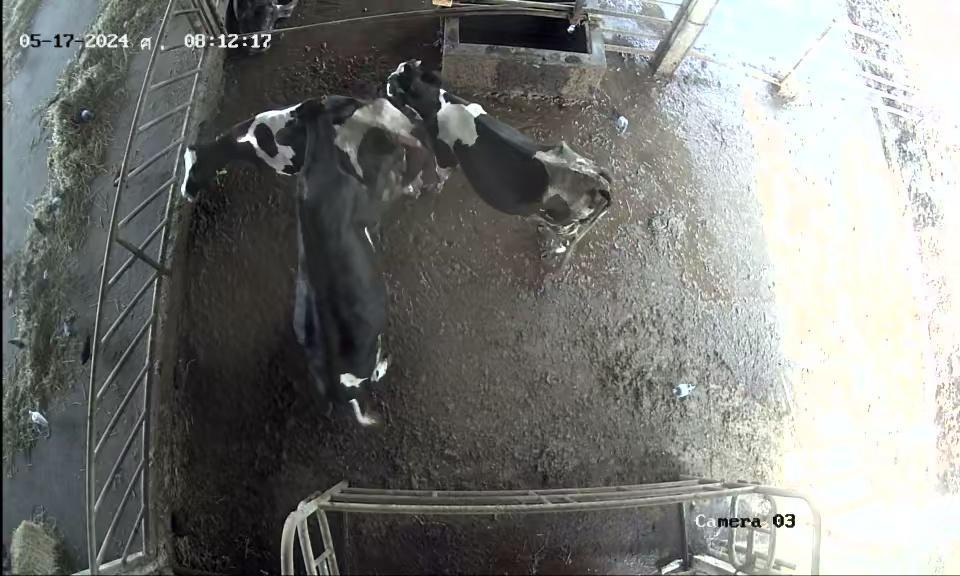ride: (269, 87, 406, 421)
stand: (389, 53, 619, 252), (175, 86, 437, 227)
